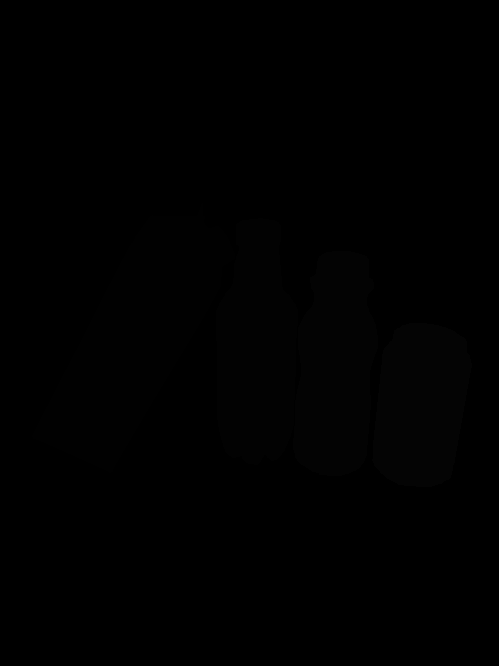can: (367, 317, 474, 494)
carton: (26, 195, 240, 478)
milk_bottle: (287, 245, 383, 480)
water_bottle: (211, 214, 301, 468)
